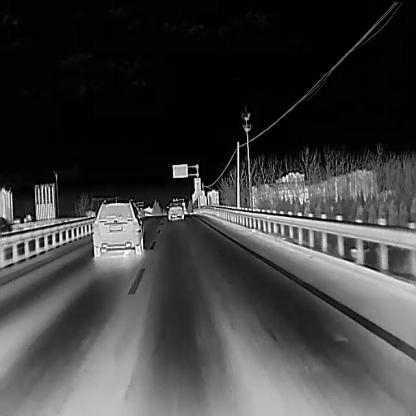car: (91, 198, 142, 256), (167, 200, 183, 219)
